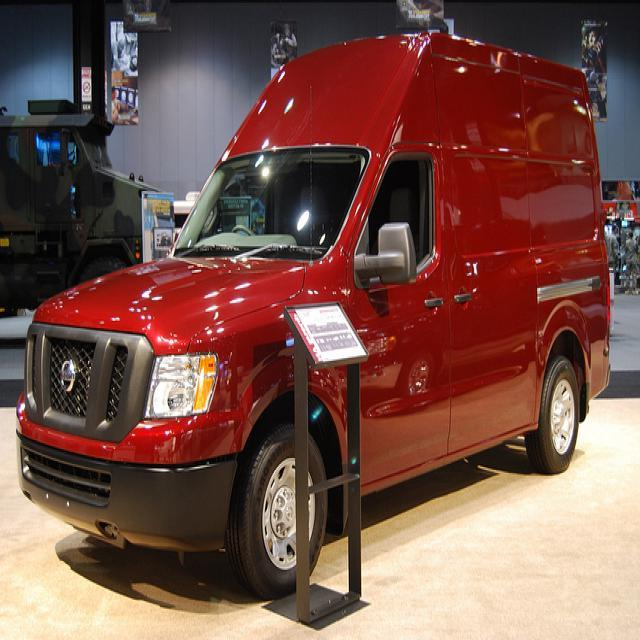Van: (1, 14, 638, 619)
